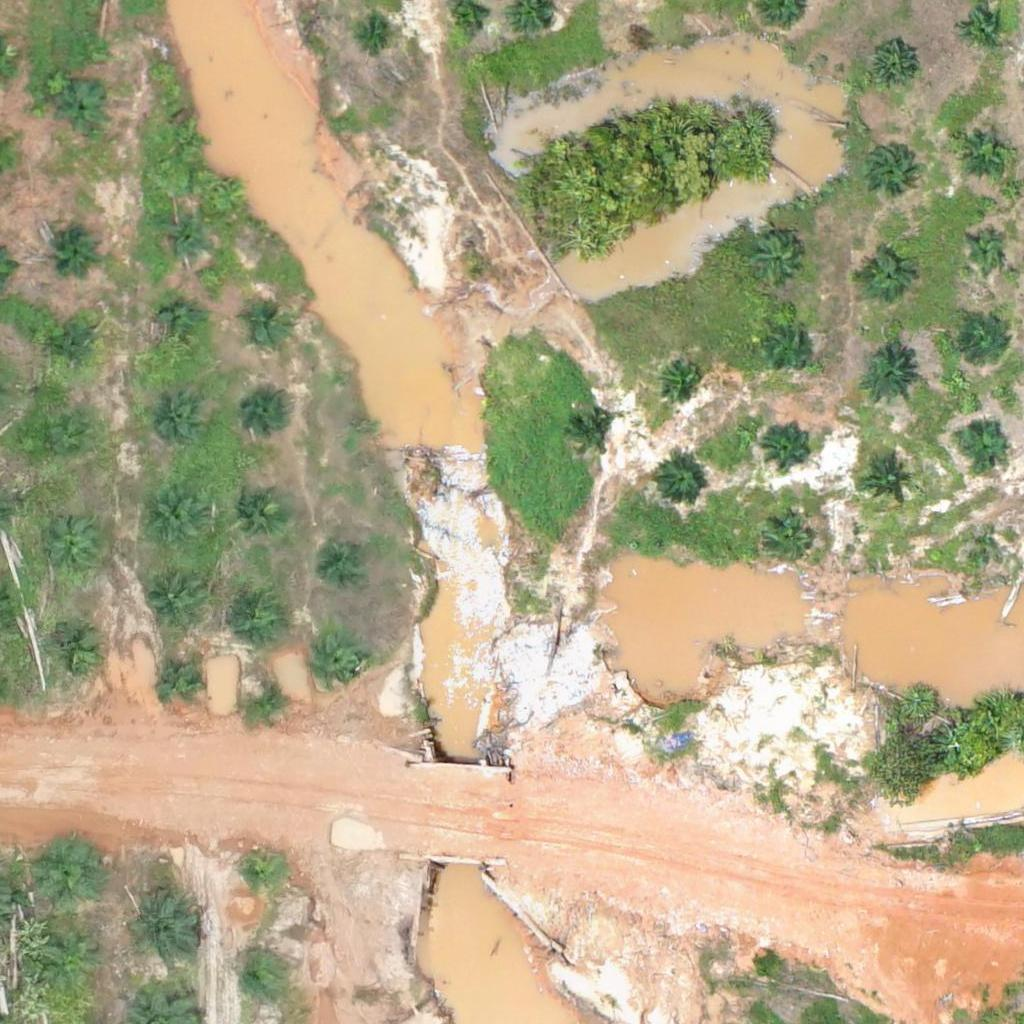Kelapa_Sawit: (125, 888, 200, 964), (29, 415, 92, 478), (144, 391, 207, 454), (142, 488, 205, 551), (38, 838, 101, 901), (229, 584, 292, 647), (143, 569, 206, 632), (858, 347, 921, 410), (44, 934, 106, 997), (39, 521, 101, 584), (44, 619, 106, 682), (229, 479, 291, 542), (953, 118, 1015, 181), (156, 654, 206, 705), (242, 675, 292, 726), (956, 414, 1006, 465), (960, 315, 1010, 366), (858, 252, 908, 303), (752, 237, 802, 288), (763, 320, 813, 371), (763, 418, 813, 469), (863, 457, 913, 508), (866, 39, 916, 90), (957, 3, 1007, 54), (245, 390, 295, 440), (52, 221, 102, 271), (159, 216, 209, 266), (58, 85, 108, 135), (155, 301, 205, 351), (241, 300, 291, 350), (863, 142, 913, 192), (654, 458, 704, 508), (313, 641, 363, 691), (323, 536, 373, 586), (235, 849, 285, 899), (231, 956, 281, 1006), (765, 519, 815, 569), (657, 354, 707, 404), (566, 410, 616, 460), (49, 325, 99, 375), (167, 123, 205, 161), (358, 15, 396, 53), (966, 231, 1003, 269), (982, 534, 1007, 559)
